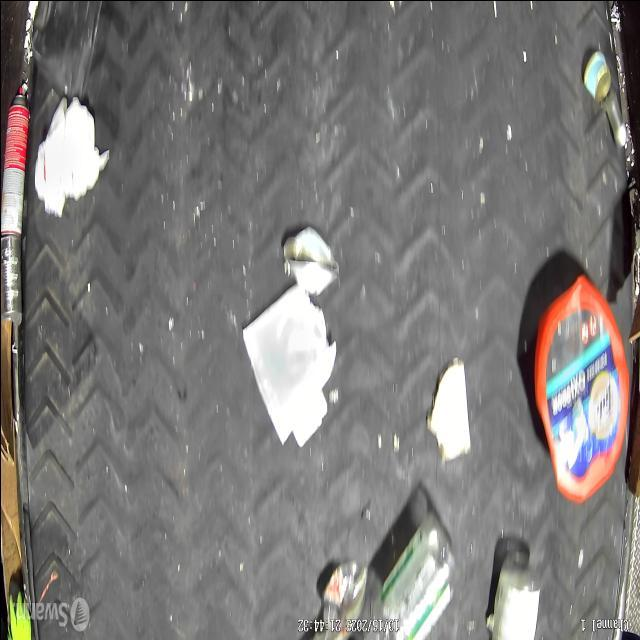can: (280, 225, 340, 293), (0, 233, 22, 323), (582, 50, 611, 104)
non_white_jug: (531, 271, 629, 504)
